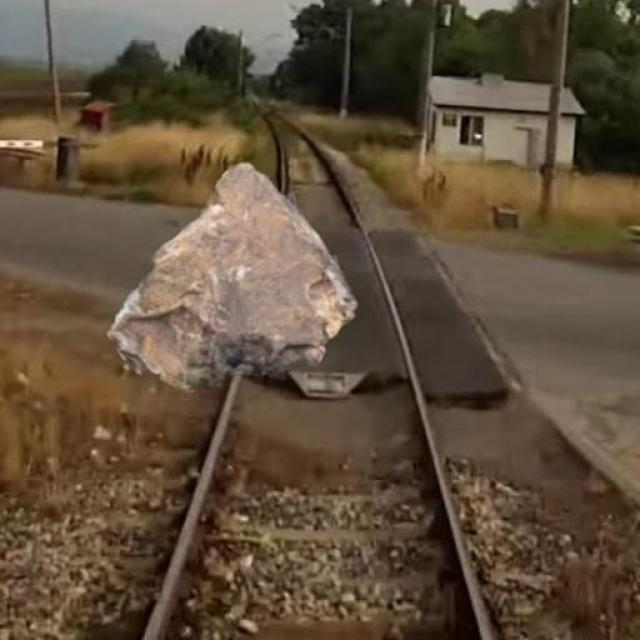Stone: (108, 160, 360, 394)
